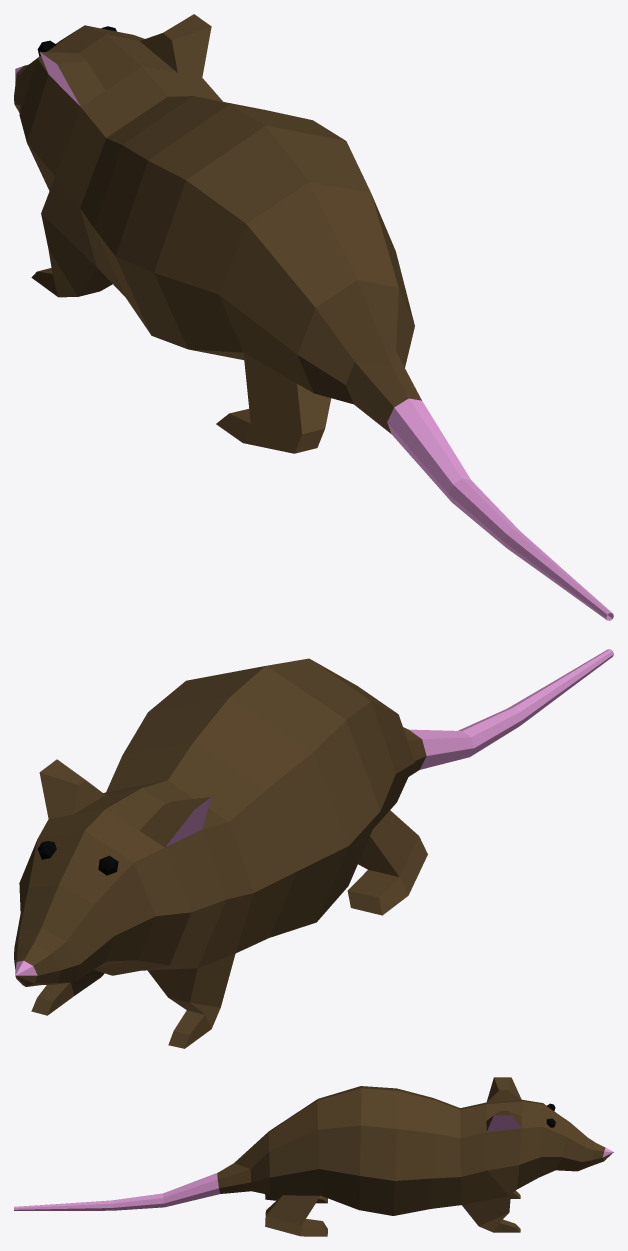
Rendered from Rat (1).glb.
The picture shows the model from 3 angles, top to bottom: view 1: azimuth 30°, elevation 25°; view 2: azimuth 150°, elevation 25°; view 3: azimuth 270°, elevation 25°; orthographic projection. The views are drawn at different scales.
Parts seen in each view (by area): view 1: Cube; view 2: Cube; view 3: Cube.
Boxes of the visible parts, x1,y1,x2,y2 form: Cube: (14, 14, 613, 620); Cube: (14, 649, 613, 1048); Cube: (14, 1077, 613, 1236).
Bounding box in the file's own units: 1.52 × 1.58 × 6.71.
